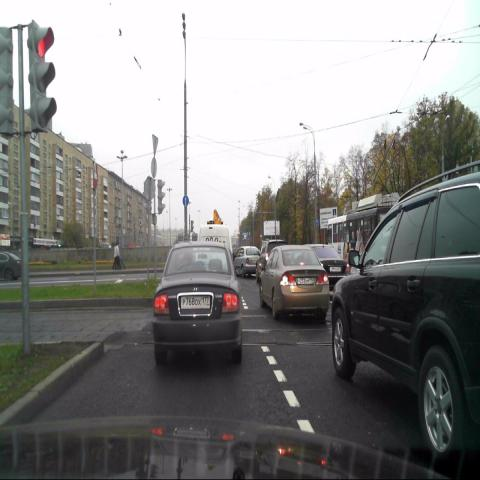4_1_1: (182, 195, 189, 206)
